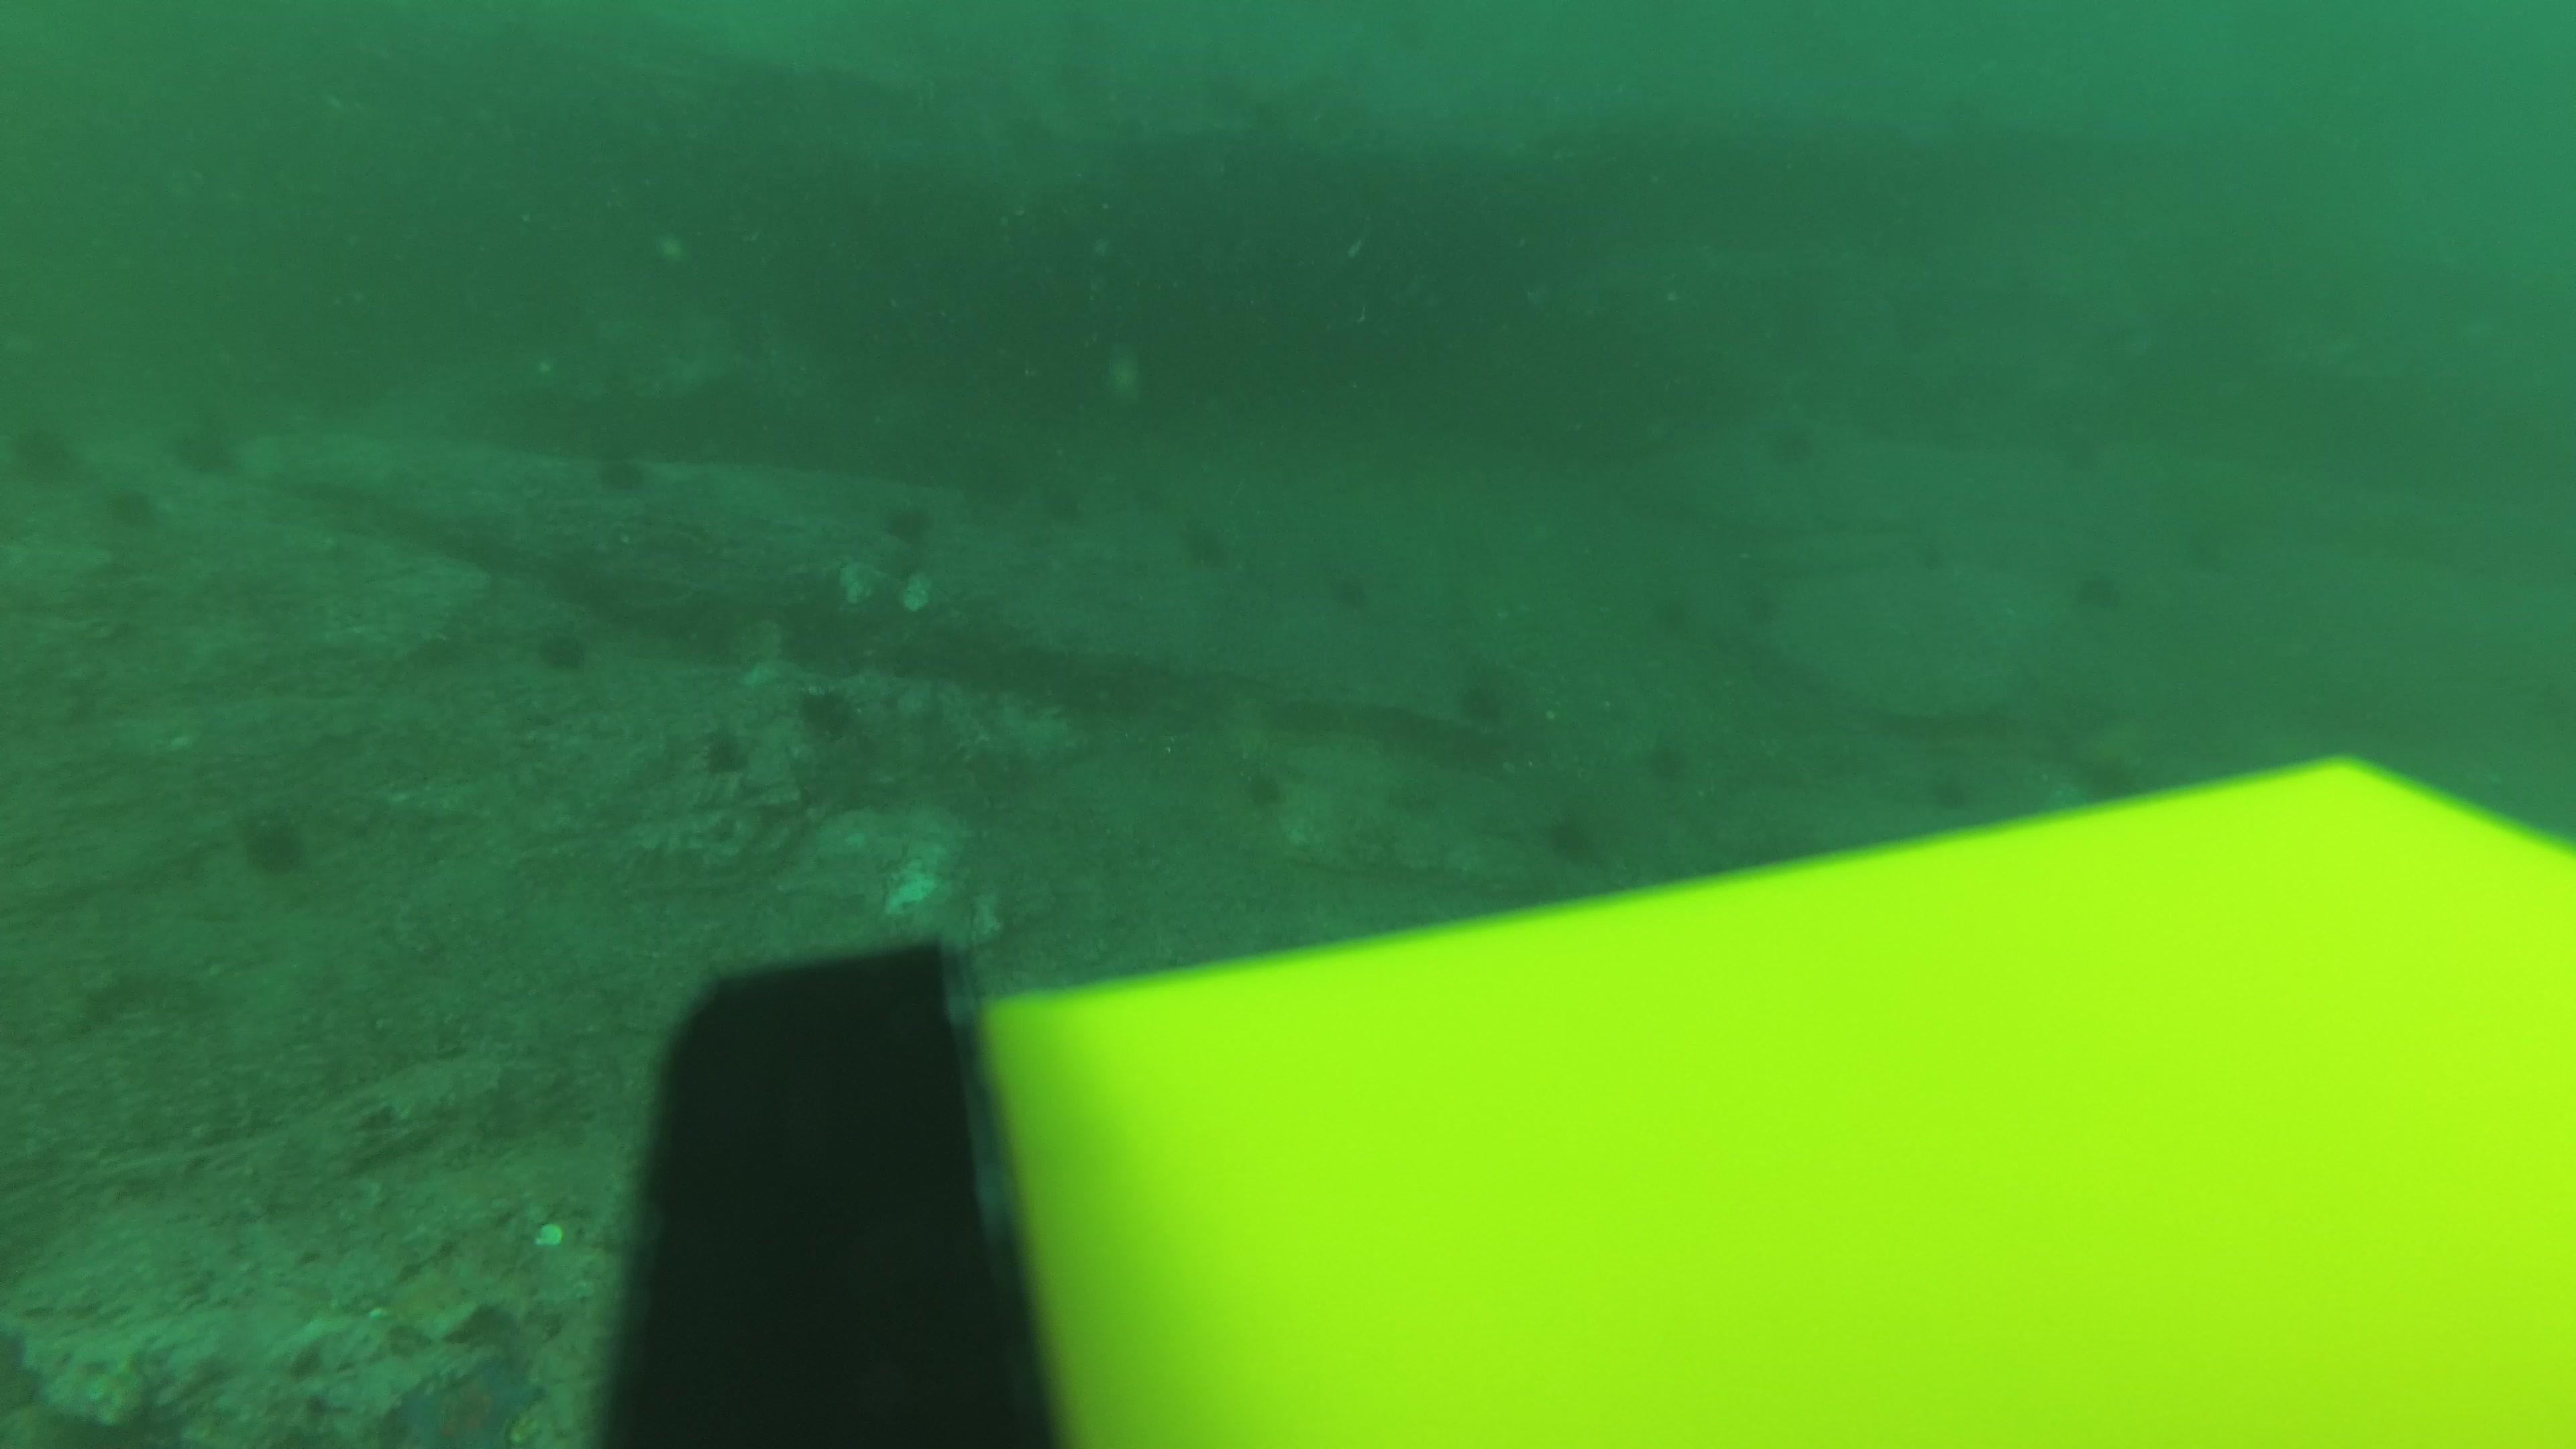echinus: (232, 801, 318, 883), (4, 412, 87, 492), (165, 405, 248, 481), (1449, 663, 1527, 740), (92, 476, 165, 541), (789, 681, 863, 745), (1537, 803, 1606, 869), (1175, 513, 1240, 577), (959, 455, 1026, 517), (527, 619, 596, 679), (1028, 472, 1093, 534), (874, 497, 941, 557), (1231, 754, 1293, 817), (589, 442, 655, 501), (2065, 559, 2130, 617), (695, 720, 755, 780), (1647, 584, 1704, 644), (1911, 525, 1967, 586), (1734, 577, 1789, 639), (1762, 416, 1817, 478), (1640, 731, 1695, 791), (1920, 763, 1974, 823), (2084, 754, 2139, 814), (2059, 423, 2114, 483), (2169, 534, 2224, 594), (1318, 563, 1373, 623)
holothurian: (932, 674, 1014, 773)
starfish: (391, 1353, 547, 1444)
